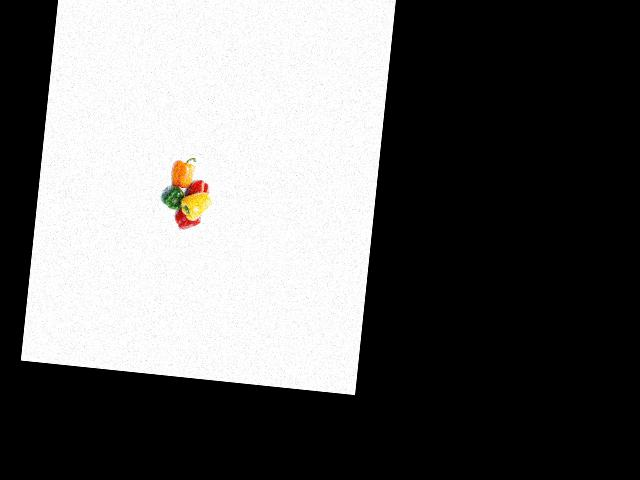bell_pepper: (155, 182, 192, 216)
